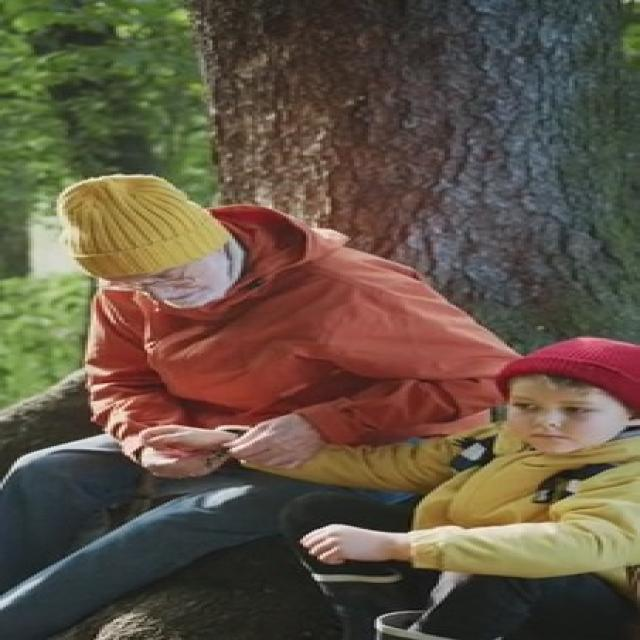Jacket_Wearer: (73, 244, 490, 456)
Person: (78, 182, 435, 518)
